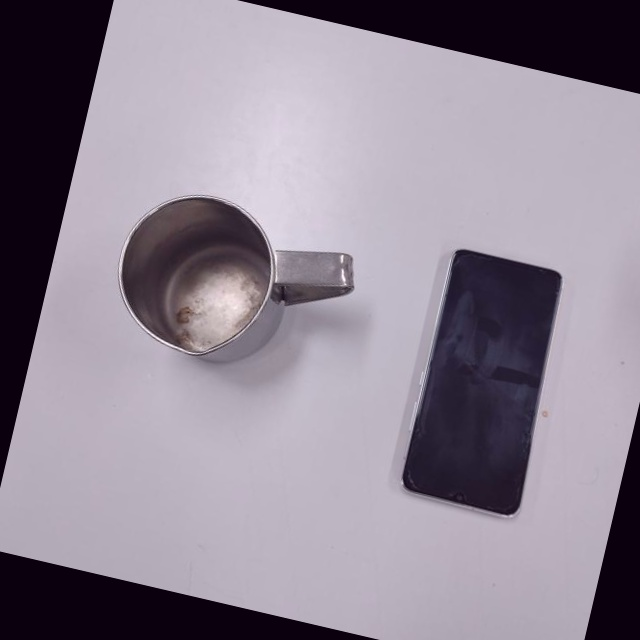cup: (101, 176, 369, 393)
phone: (394, 243, 575, 523)
